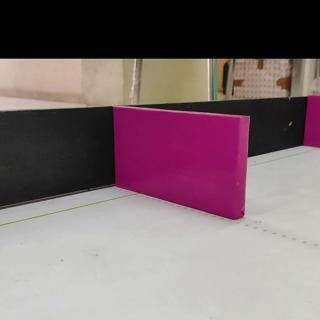xparking: (113, 116, 242, 219)
